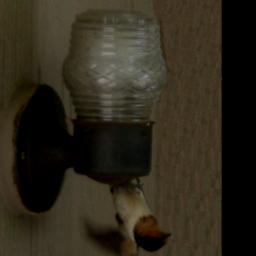Swallow: (81, 177, 172, 256)
